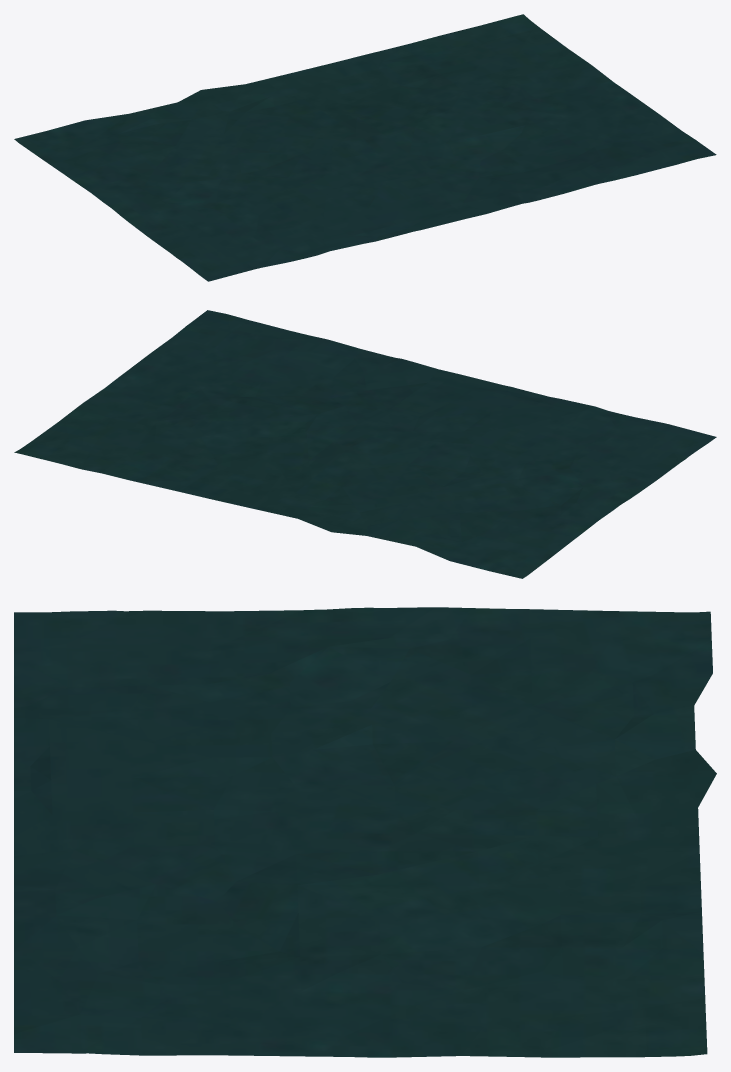
3 views of the same model, one above another, from view 1: azimuth 30°, elevation 25°; view 2: azimuth 150°, elevation 25°; view 3: azimuth 270°, elevation 25° (orthographic). The views are drawn at different scales.
Bounding box in the file's own units: 52.22 × 0.5104 × 34.85.
Materials: 2 (2 with a texture image).
